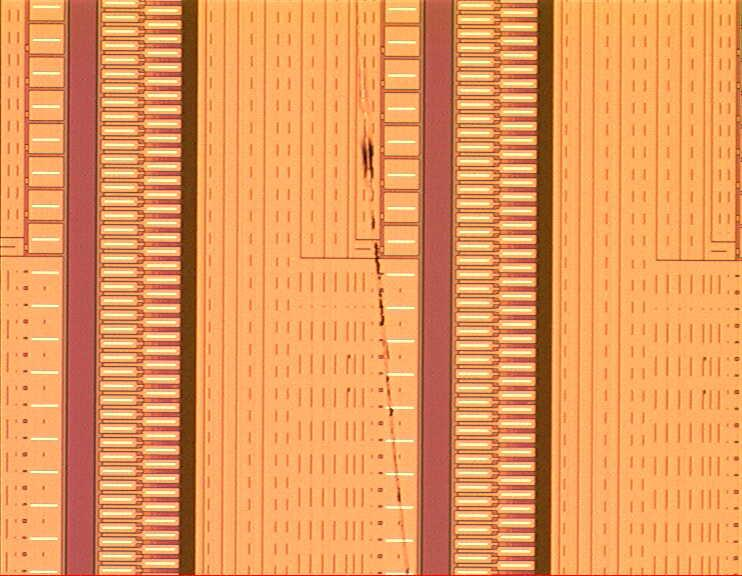SCRATCH: (348, 1, 420, 574)
